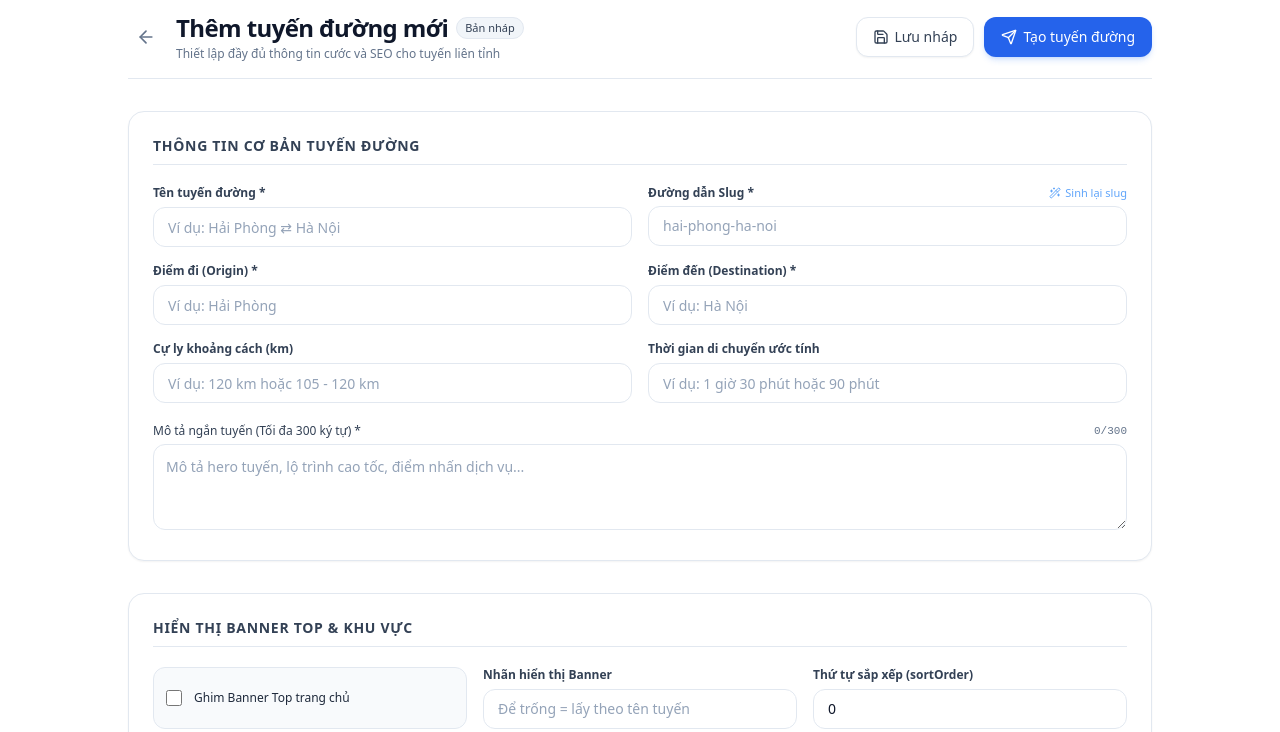
Test: Routes & Pricing Tiers Module (Task T114 & T115) › RouteForm Component (Task T115) › báo lỗi validation khi thiếu các trường bắt buộc và thiếu priceValidUntil
Click the button with test id "save-route-btn": (1068, 37) x1=984 y1=17 x2=1152 y2=57
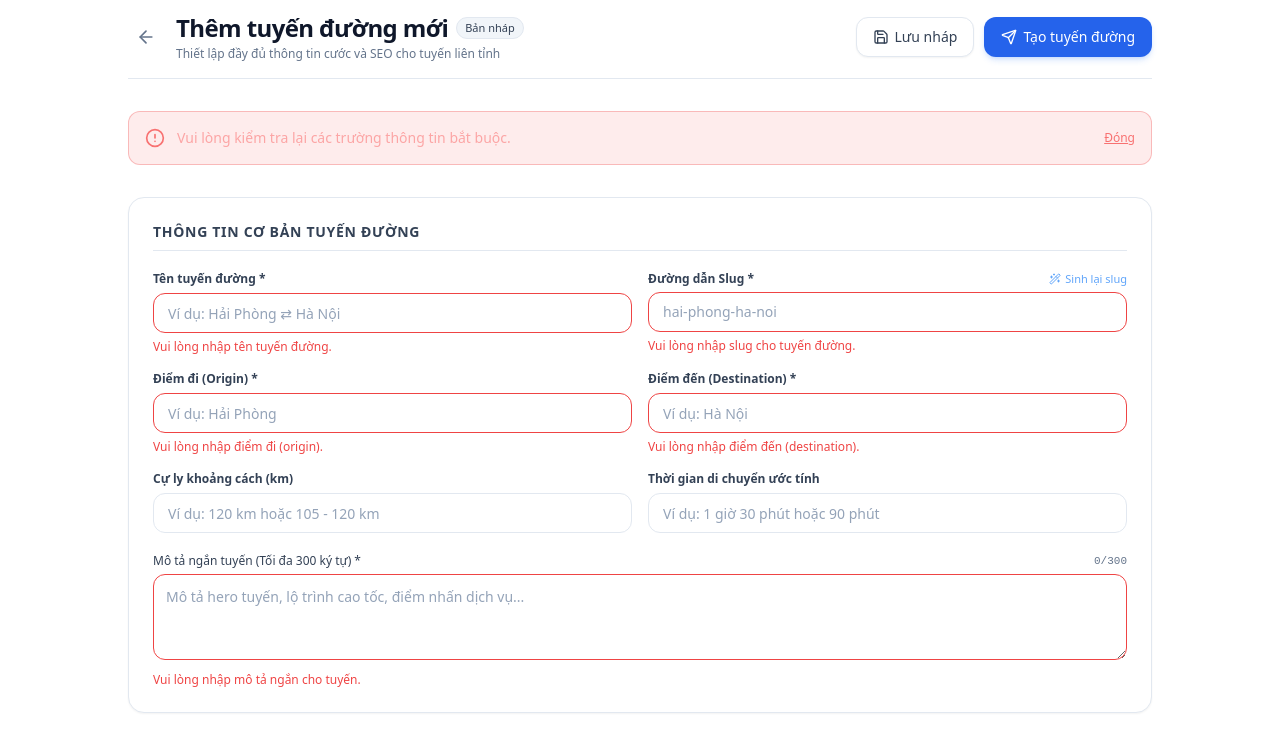
Result: the text "Vui lòng nhập tên tuyến đường." is shown at x1=153 y1=338 x2=332 y2=355
